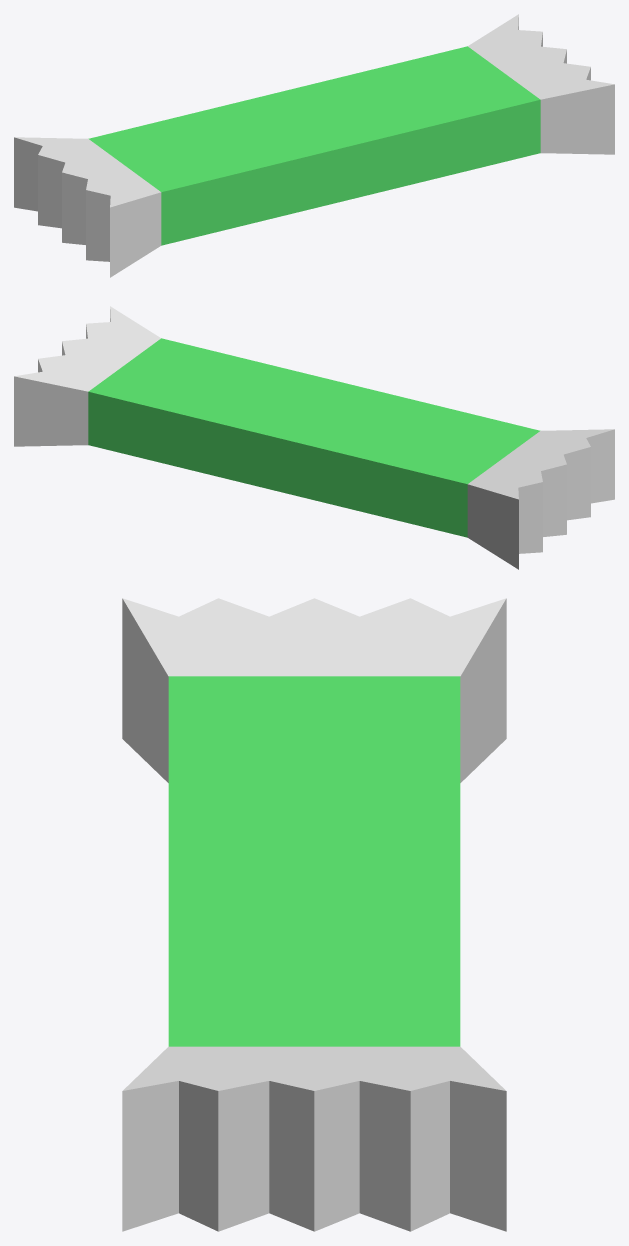
The model's file is GranolaBar.fbx.
3 views of the same model, one above another, from view 1: azimuth 30°, elevation 25°; view 2: azimuth 150°, elevation 25°; view 3: azimuth 270°, elevation 25° (orthographic). The views are drawn at different scales.
Visible parts, largest first — view 1: Cube; view 2: Cube; view 3: Cube.
Part boxes in pixels (x1,y1,x2,y2): Cube: (14,14,614,277); Cube: (14,306,614,569); Cube: (122,598,506,1231).
Bounding box in the file's own units: 79.89 × 10.64 × 26.32.
